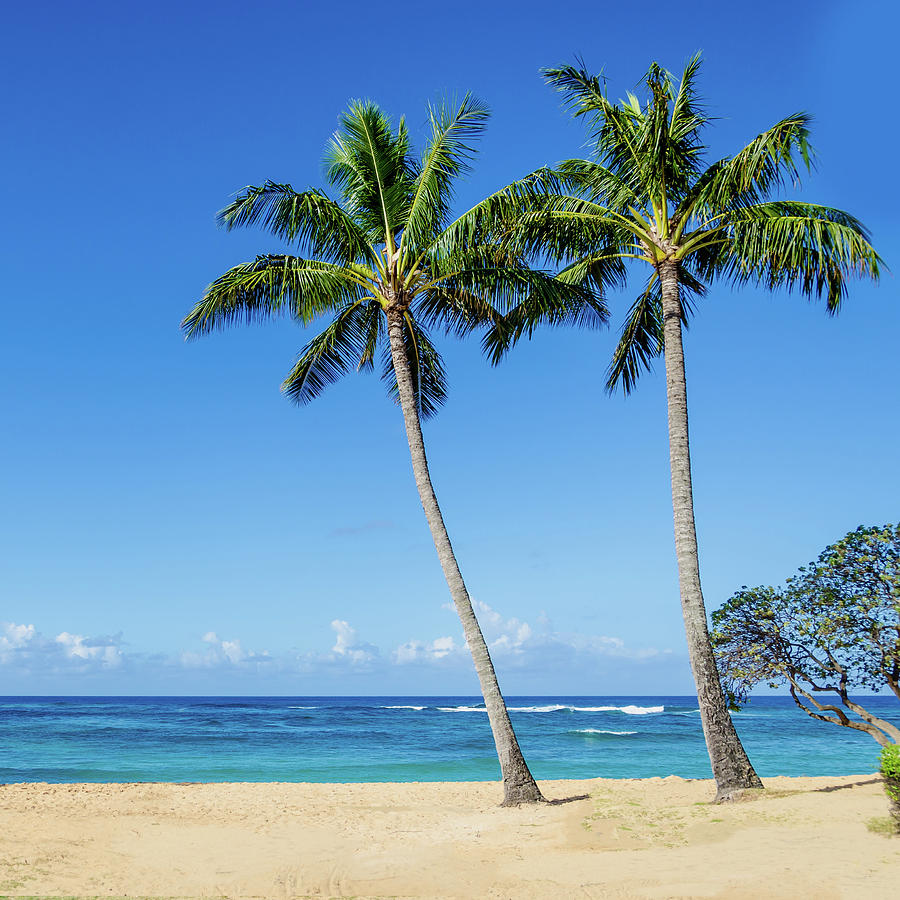plants: (179, 107, 575, 687), (577, 39, 887, 514), (719, 520, 900, 768)
